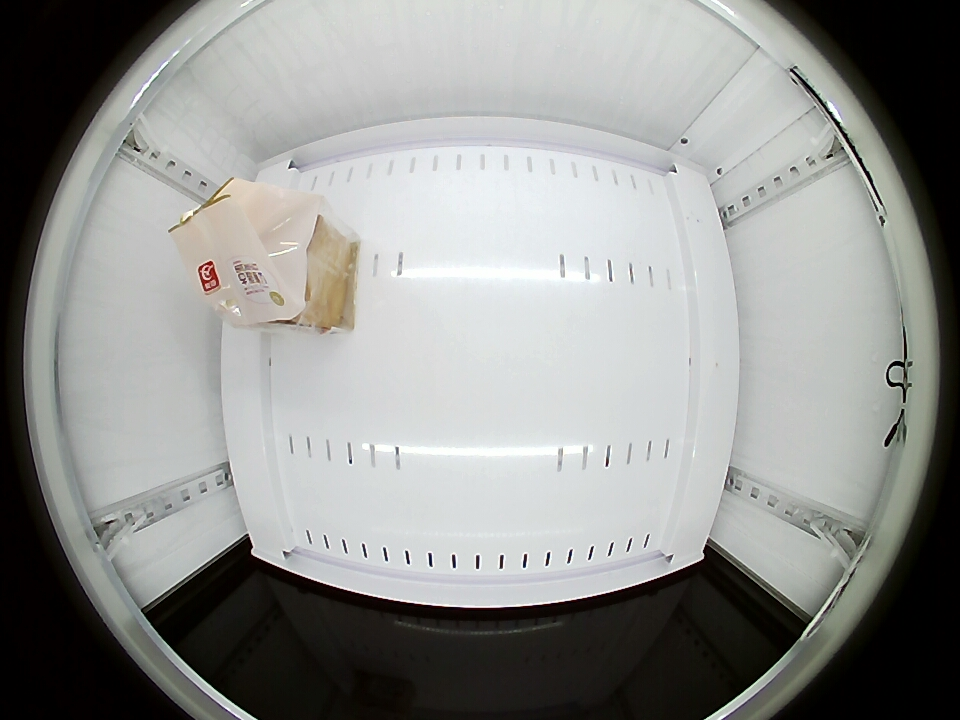zaocanmofang: (175, 177, 332, 329)
